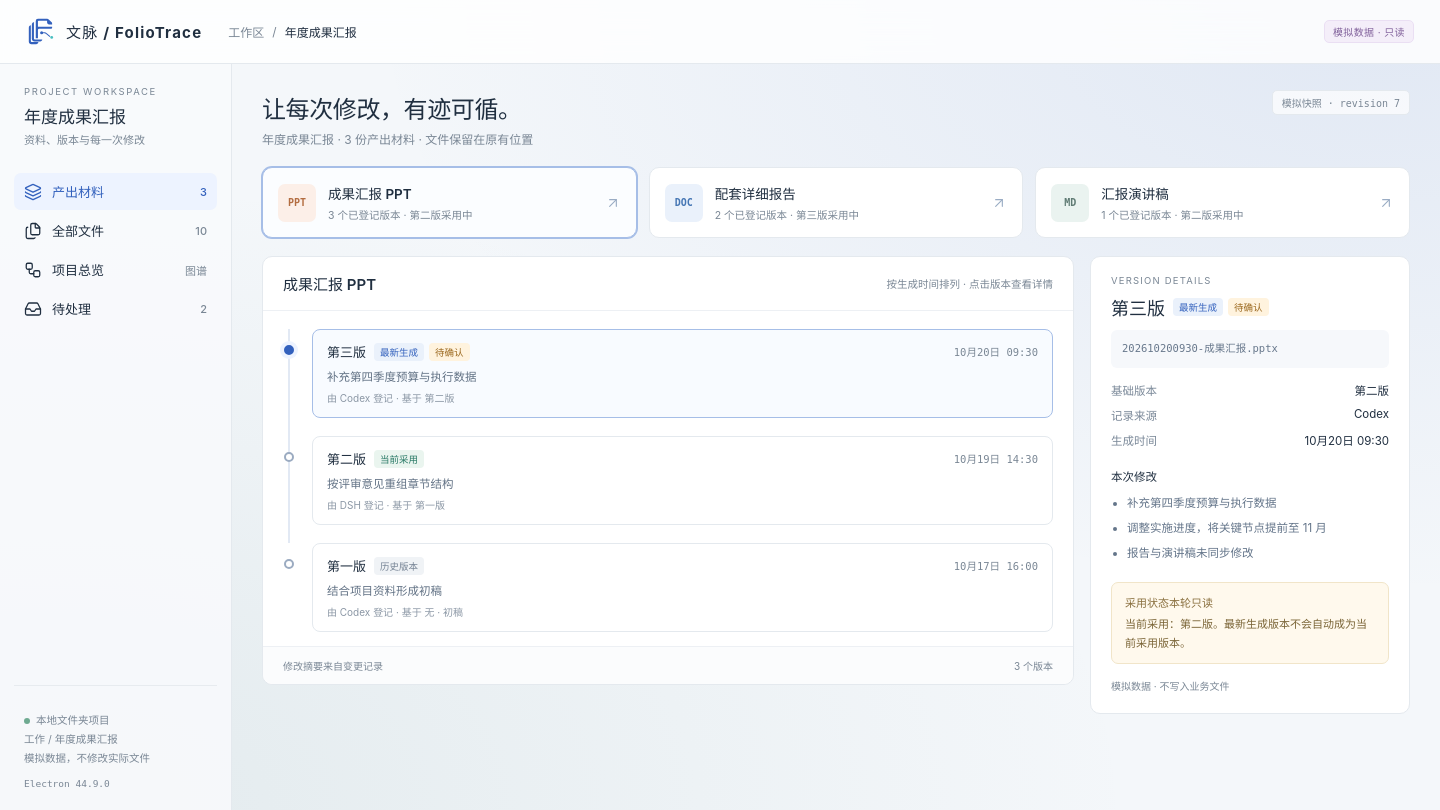
产出材料工作台 › 点击版本后详情切换，并区分历史版本与当前采用
Expected: the list named "产出材料" is shown, left=262, top=167, right=1410, bottom=238
Click the button with aria-label "成果汇报 PPT 第一版": (347, 566) left=312, top=543, right=1053, bottom=632
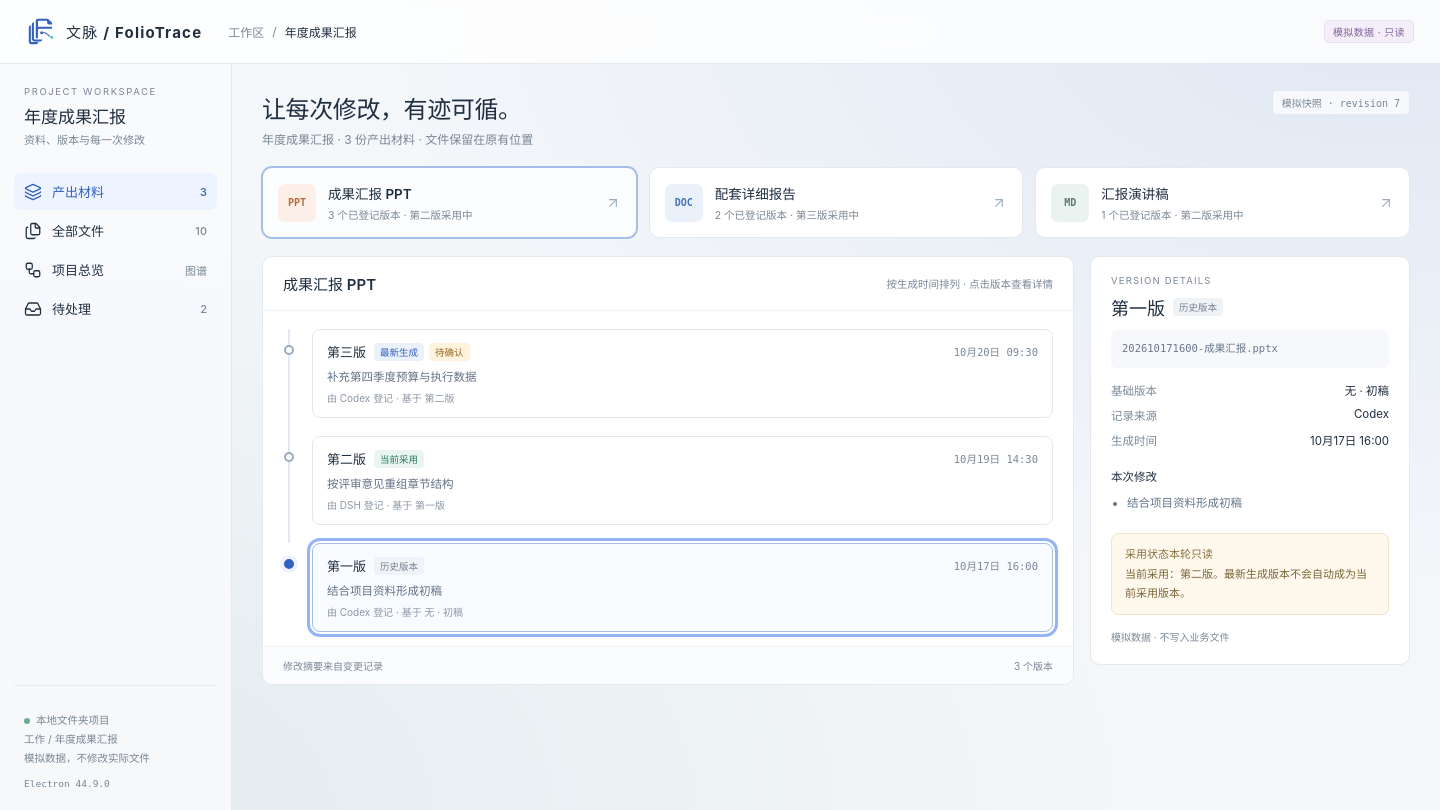
Expected: the text "当前采用：第二版。最新生成版本不会自动成为当前采用版本。" is shown, left=1125, top=565, right=1375, bottom=603
Expected: the text "历史版本" below "VERSION DETAILS" is shown, left=1179, top=302, right=1217, bottom=313
